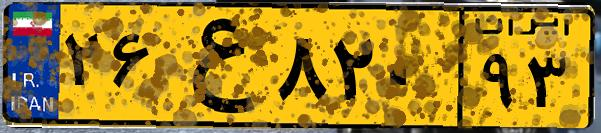0: (385, 28, 445, 110)
2: (330, 28, 385, 110), (57, 26, 110, 100)
3: (525, 38, 570, 115)
6: (110, 28, 158, 98)
8: (270, 28, 330, 110)
9: (475, 38, 525, 113)
ع: (158, 12, 270, 120)
